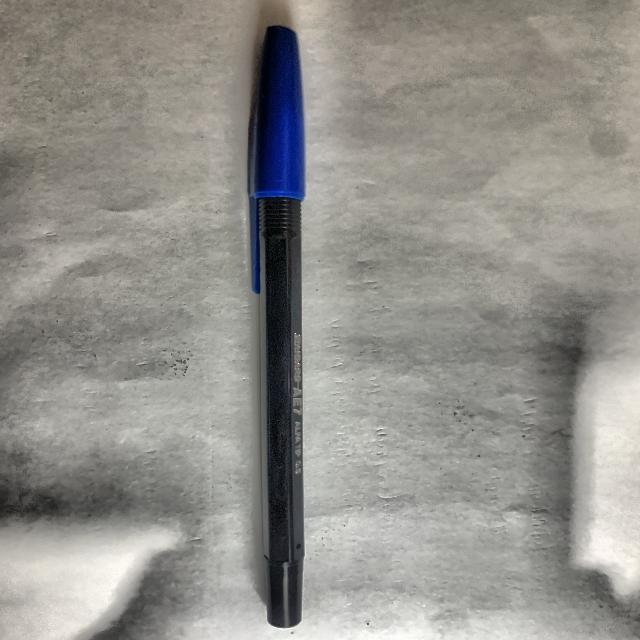Pulpen: (233, 16, 327, 638)
